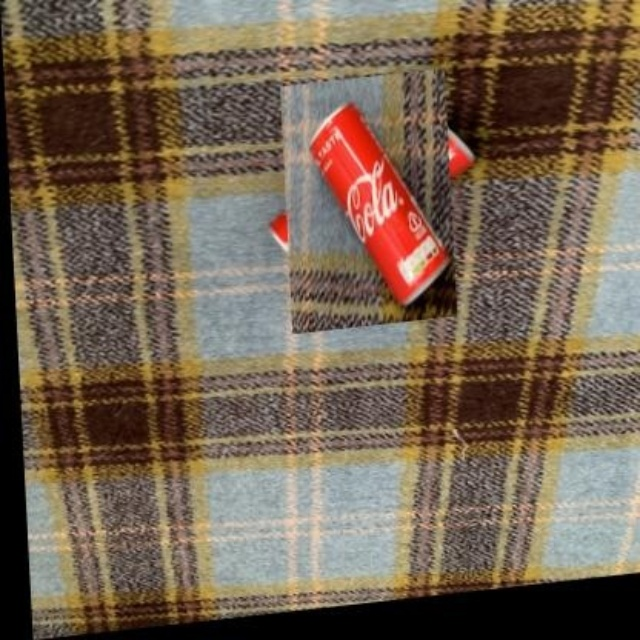trash: (311, 103, 448, 305)
